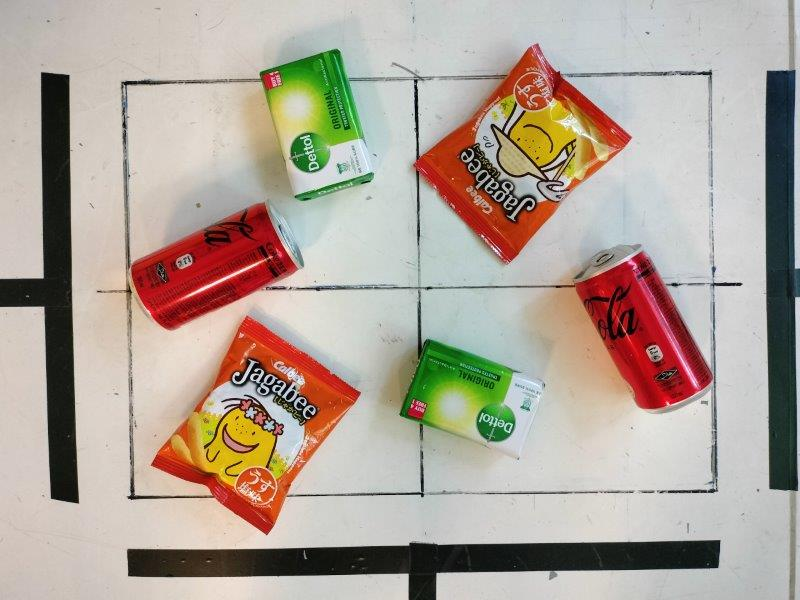Coke: (571, 241, 709, 416), (127, 201, 304, 331)
Dettol: (400, 339, 545, 461), (258, 48, 373, 201)
Jagabee: (413, 43, 632, 264), (152, 318, 360, 536)
